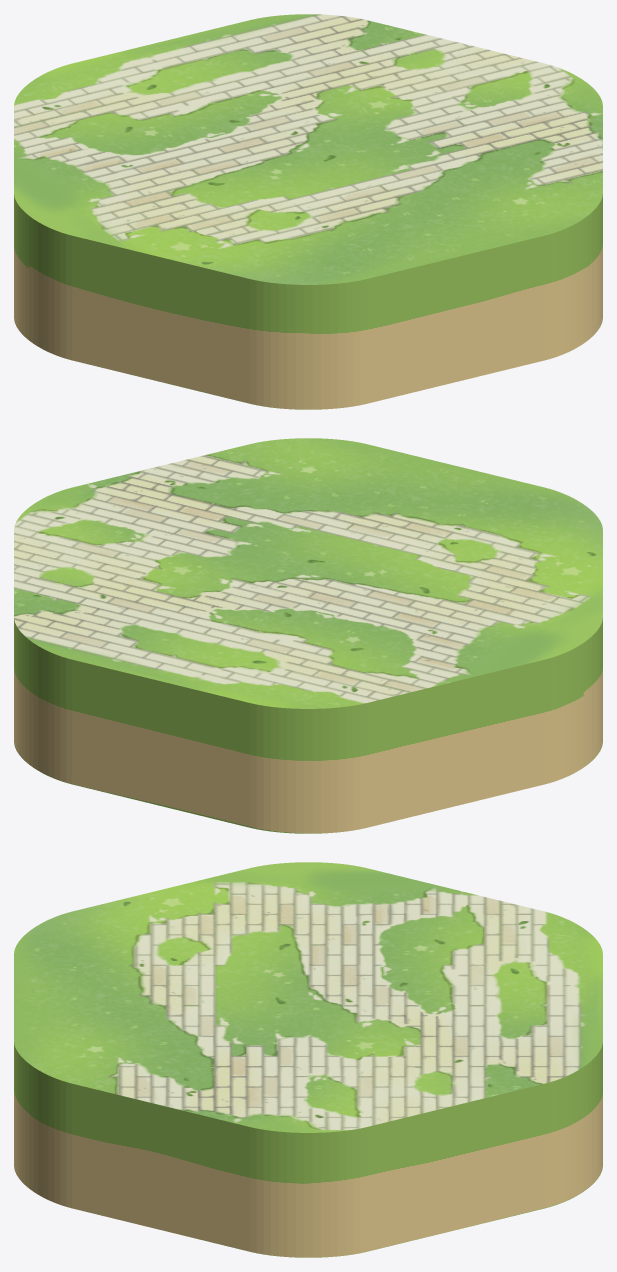
File: B floor.fbx
The picture shows the model from 3 angles, top to bottom: view 1: azimuth 30°, elevation 25°; view 2: azimuth 150°, elevation 25°; view 3: azimuth 270°, elevation 25°; orthographic projection.
Visible parts, largest first — view 1: 円柱.001; view 2: 円柱.001; view 3: 円柱.001.
Boxes of the visible parts, x1=… form: 円柱.001: x1=14, y1=14, x2=602, y2=409; 円柱.001: x1=14, y1=438, x2=602, y2=833; 円柱.001: x1=14, y1=862, x2=602, y2=1257.
Bounding box in the file's own units: 1.88 × 0.4049 × 1.73.
Materials: 1 (1 with a texture image).
